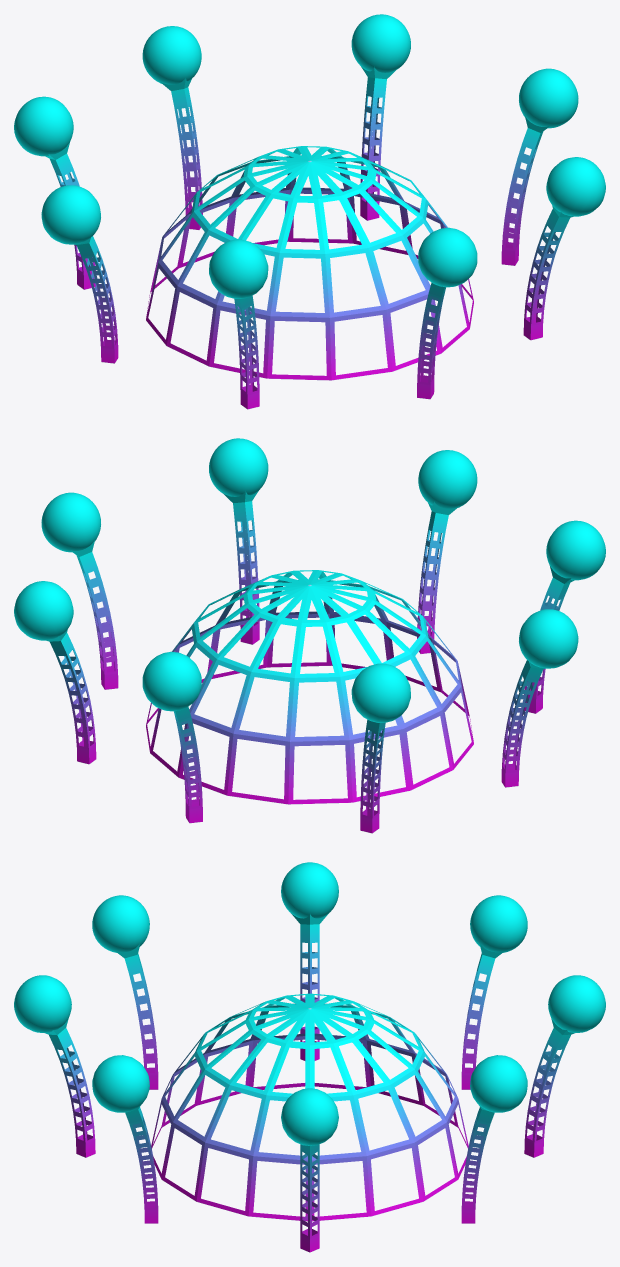
File: DelicDome.fbx
The picture shows the model from 3 angles, top to bottom: view 1: azimuth 30°, elevation 25°; view 2: azimuth 150°, elevation 25°; view 3: azimuth 270°, elevation 25°; orthographic projection. The views are drawn at different scales.
Visible parts, largest first — view 1: DelicDome; view 2: DelicDome; view 3: DelicDome.
Part boxes in pixels (left/top/right/bottom): DelicDome: left=14, top=14, right=605, bottom=409; DelicDome: left=14, top=438, right=605, bottom=833; DelicDome: left=14, top=862, right=605, bottom=1252.
Size of the model in its own units: 6.42 by 2.11 by 6.42.
2 materials, 1 textured.
